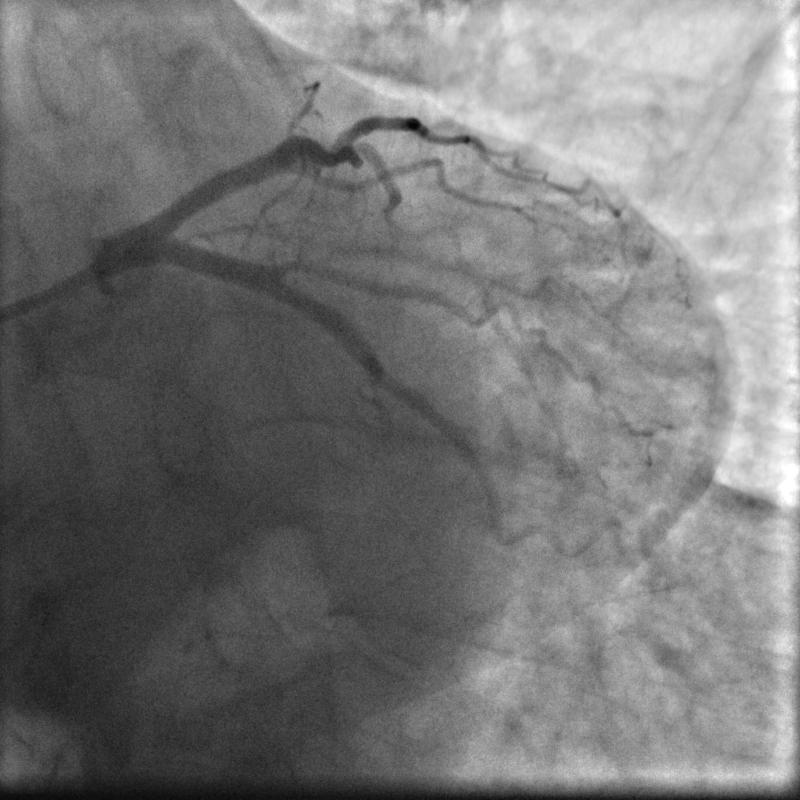Stenosis: (374, 350, 402, 408)
